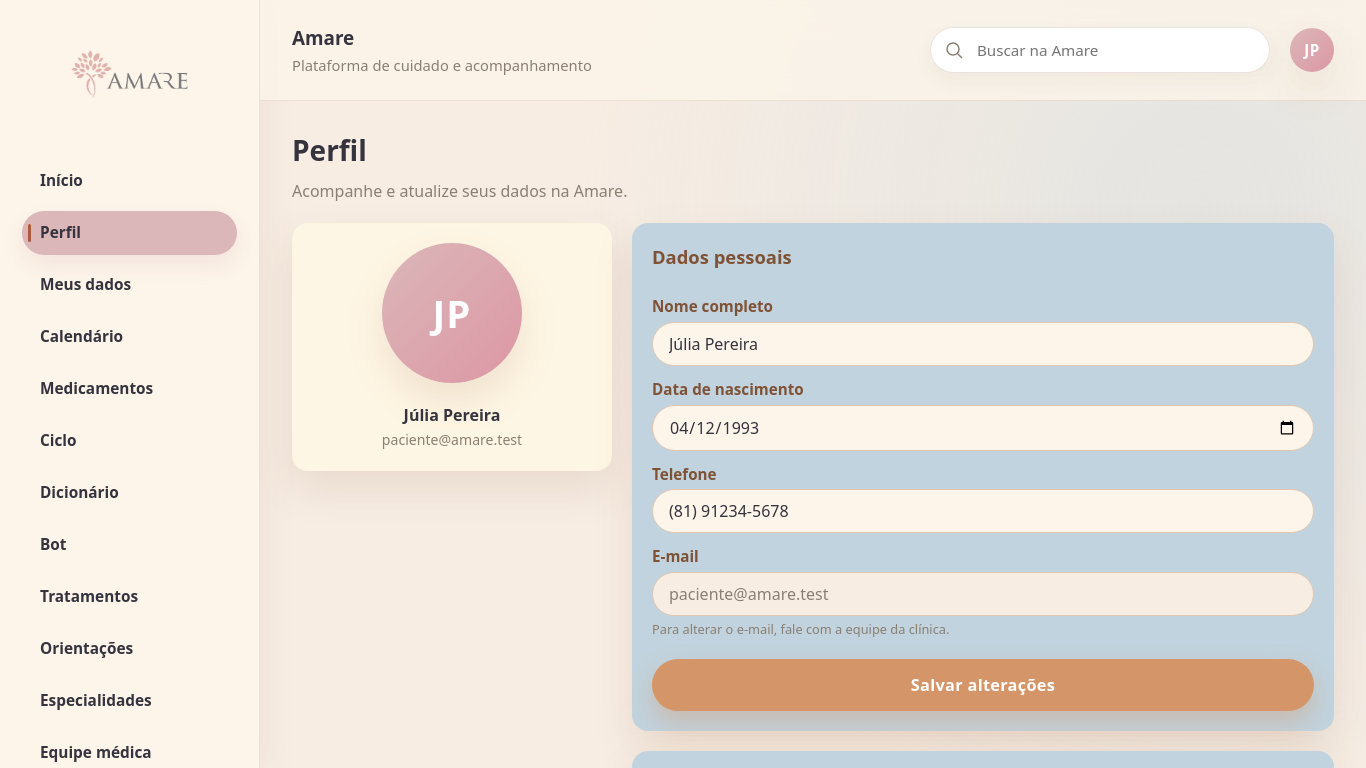
Polimento UX do perfil › 5. salvar perfil com telefone formatado dispara feedback de sucesso
Replace the text in the field with test id "perfil-telefone" with "81999997777" at (983, 511), box [652,489,1314,533]
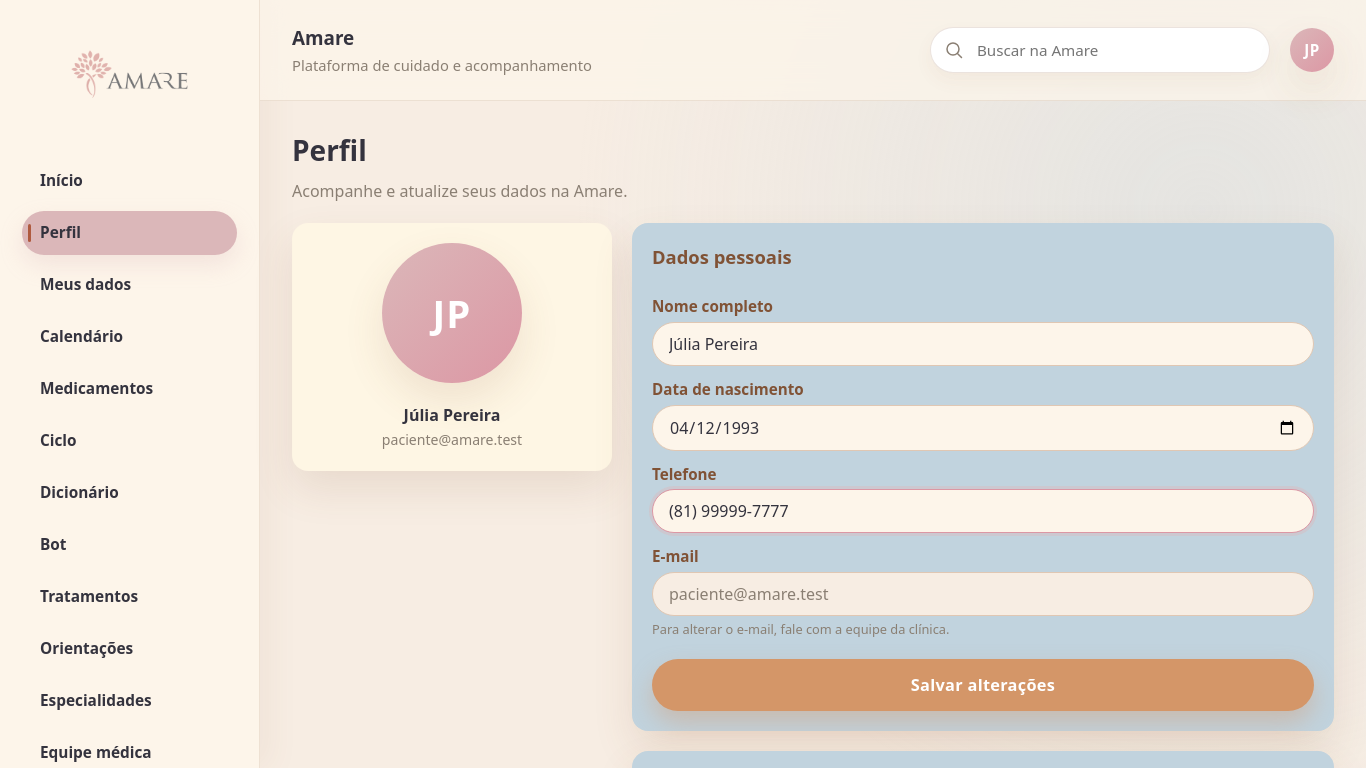
Expected: the field with test id "perfil-telefone" holds "(81) 99999-7777", [652,489,1314,533]
Click the button with test id "perfil-salvar".
click(983, 685)  # box [652,659,1314,711]
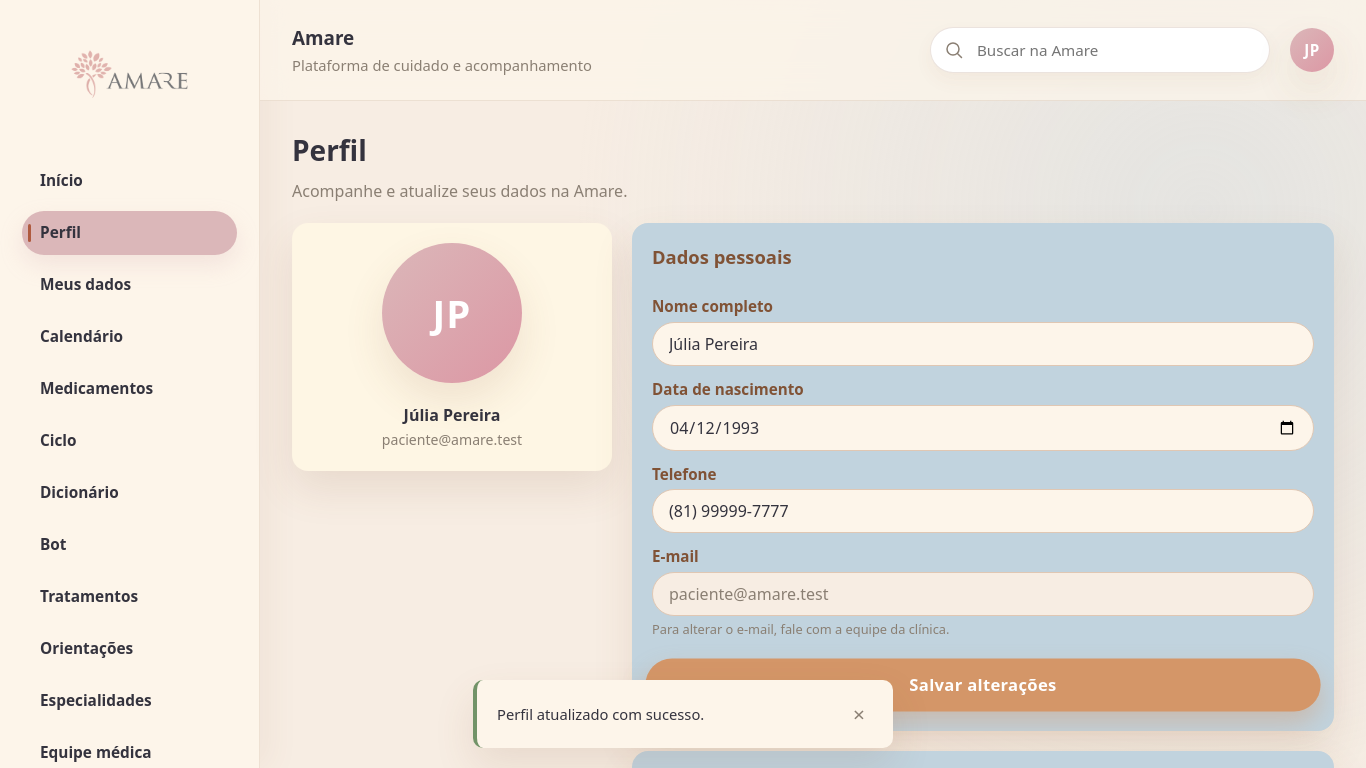
Expected: the message "Perfil atualizado com sucesso. ×" is shown, [473,680,893,748]
Expected: the text with test id "toast" reads "Perfil atualizado com sucesso.", [497,704,704,724]
